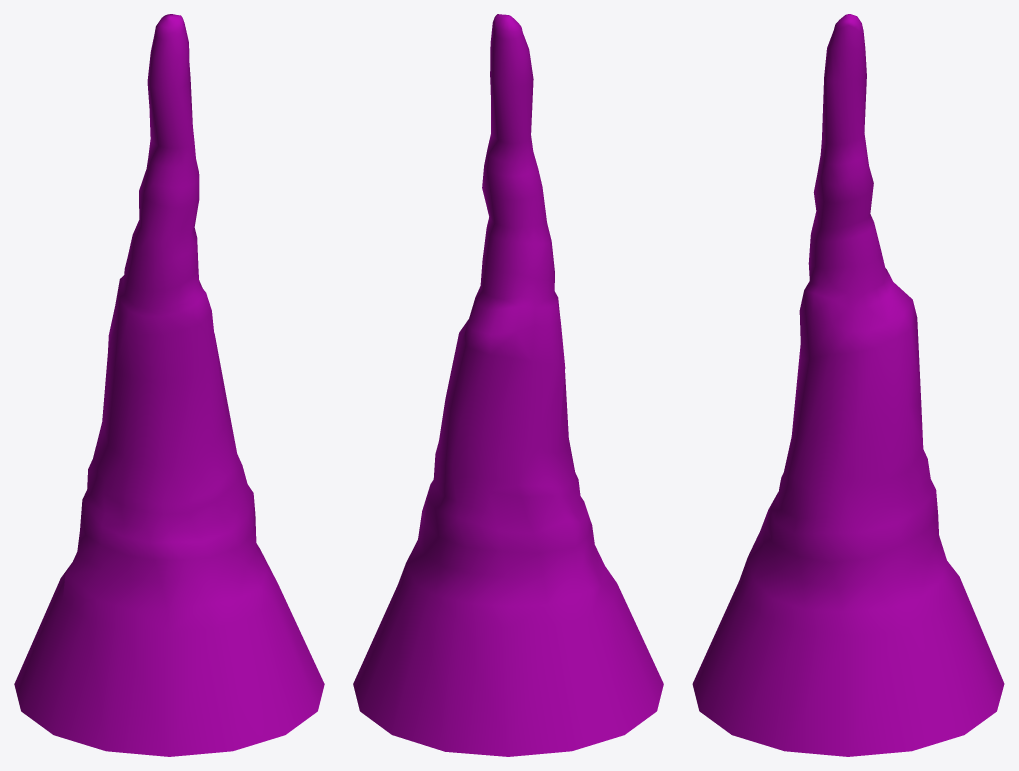
The model's file is Stalagmite_A.fbx.
The picture shows the model from 3 angles, left to right: view 1: azimuth 30°, elevation 25°; view 2: azimuth 150°, elevation 25°; view 3: azimuth 270°, elevation 25°; orthographic projection.
Visible parts, largest first — view 1: Stalagmite_A; view 2: Stalagmite_A; view 3: Stalagmite_A.
Part boxes in pixels (<box>): Stalagmite_A: <box>14,14,324,756</box>; Stalagmite_A: <box>353,14,663,756</box>; Stalagmite_A: <box>692,14,1004,756</box>.
Size of the model in its own units: 26.43 by 63.75 by 26.63.
